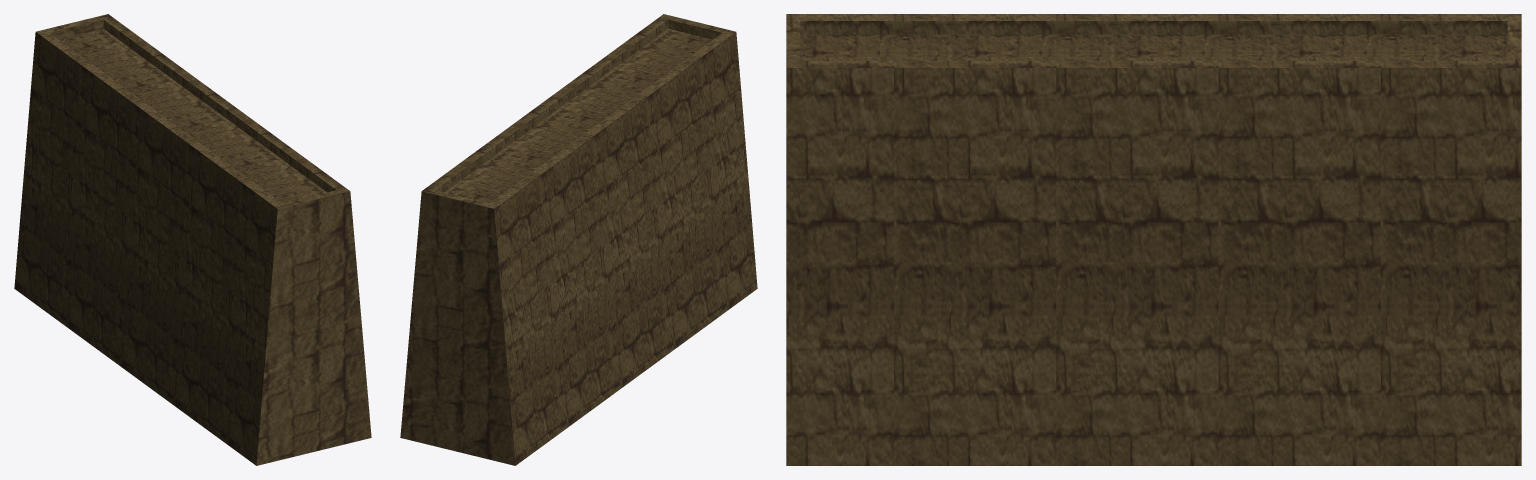
The model's file is Aztec Wall.obj.
3 renders of one model, left to right at view 1: azimuth 30°, elevation 25°; view 2: azimuth 150°, elevation 25°; view 3: azimuth 270°, elevation 25°, orthographic. The views are drawn at different scales.
Parts seen in each view (by area): view 1: Cube.001; view 2: Cube.001; view 3: Cube.001.
Part boxes in pixels (<box>): Cube.001: <box>14,14,371,465</box>; Cube.001: <box>400,14,757,465</box>; Cube.001: <box>786,14,1521,465</box>.
Bounding box in the file's own units: 0.2802 × 0.5858 × 1.02.
Materials: 1 (1 with a texture image).
